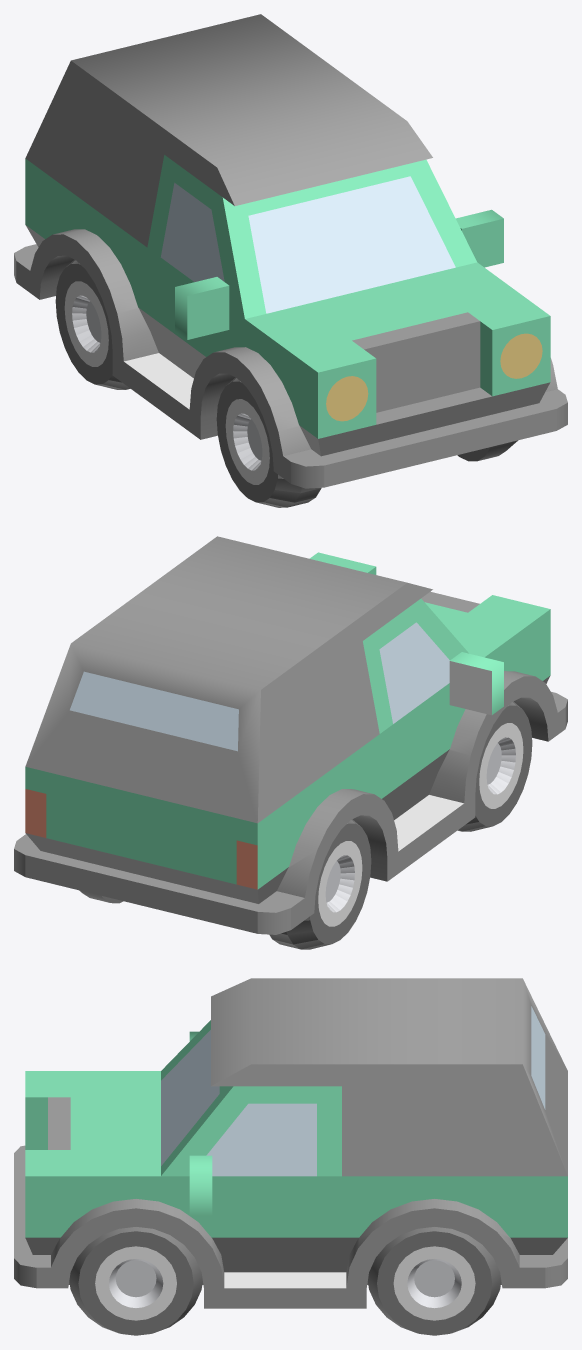
The model's file is car11.fbx.
The picture shows the model from 3 angles, top to bottom: view 1: azimuth 30°, elevation 25°; view 2: azimuth 150°, elevation 25°; view 3: azimuth 270°, elevation 25°; orthographic projection. The views are drawn at different scales.
Visible parts, largest first — view 1: car.010; view 2: car.010; view 3: car.010.
Boxes of the visible parts, bbox=[...] form: car.010: bbox=[14, 14, 567, 507]; car.010: bbox=[14, 536, 567, 949]; car.010: bbox=[14, 978, 567, 1335].
Size of the model in its own units: 240 by 208 by 392.
